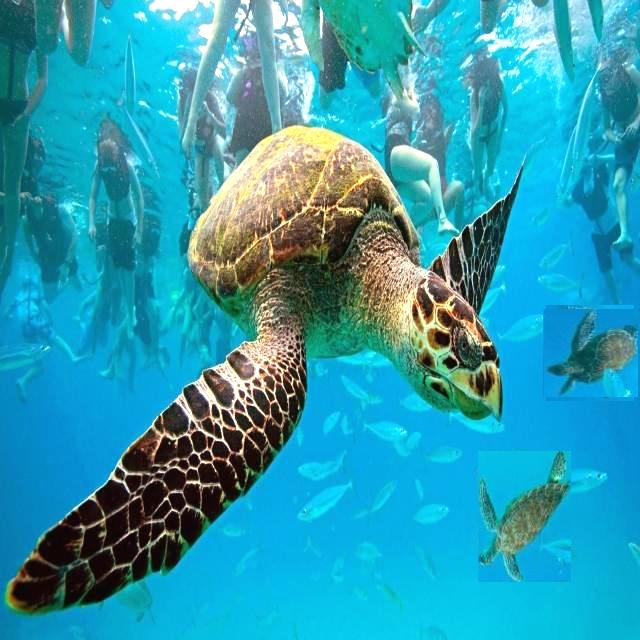Sea turtle: (10, 124, 530, 612), (478, 451, 571, 582), (544, 308, 636, 400)
